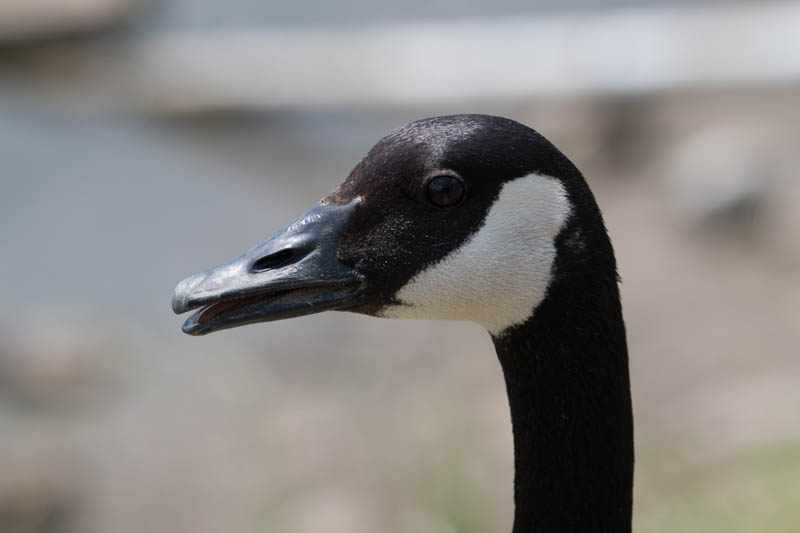goose-head: (170, 114, 619, 337)
